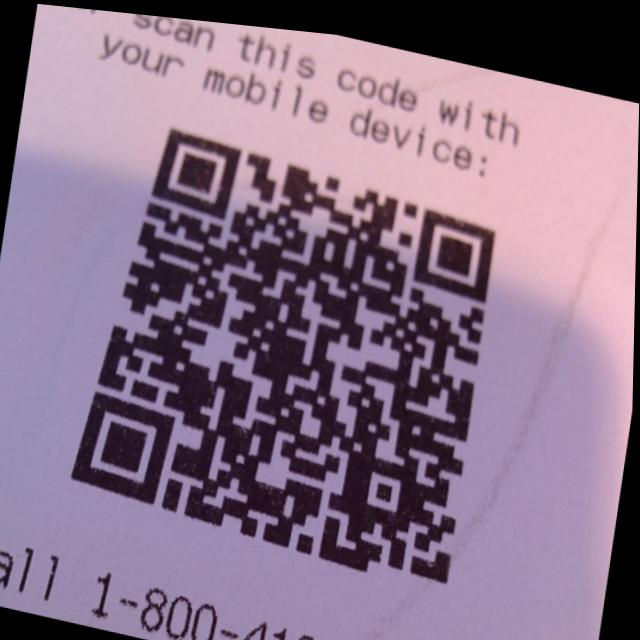QR_CODE: (53, 82, 534, 608)
